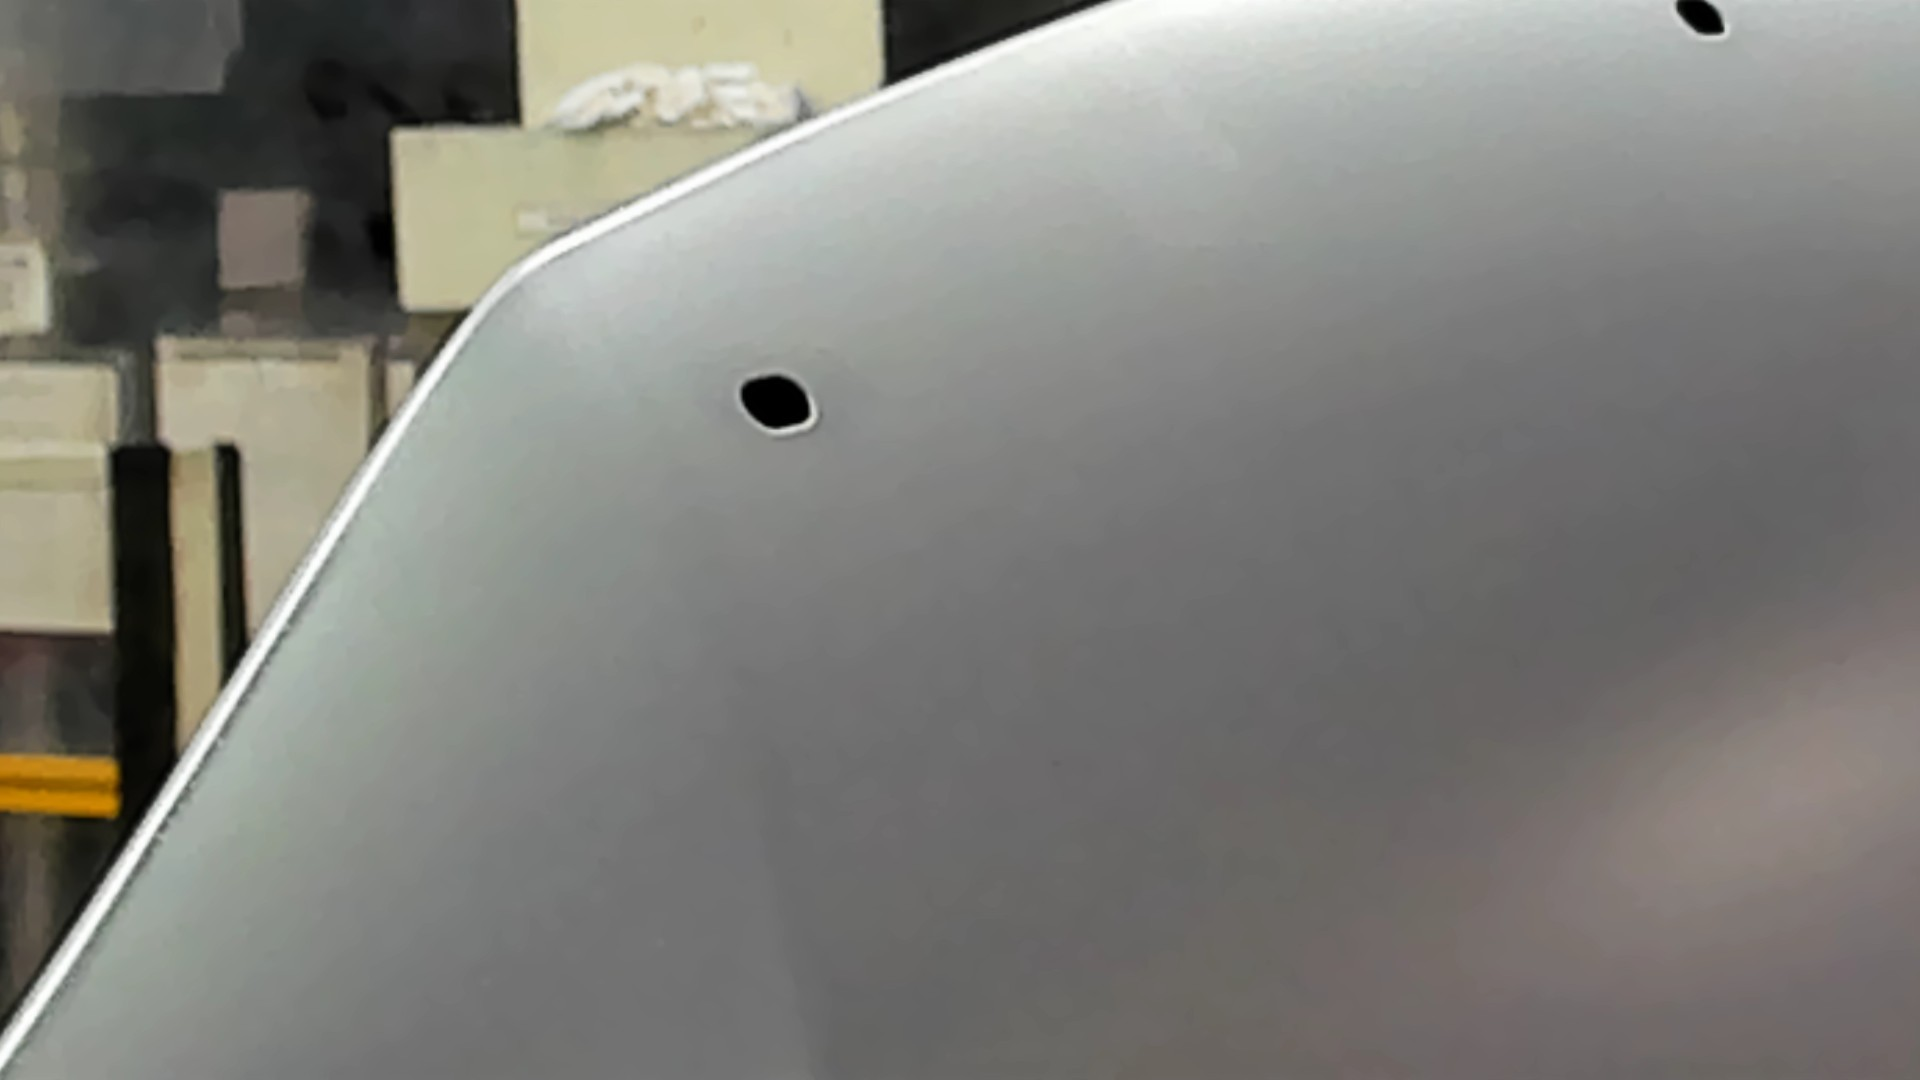amorfo: (729, 367, 833, 446), (1665, 1, 1739, 47)
